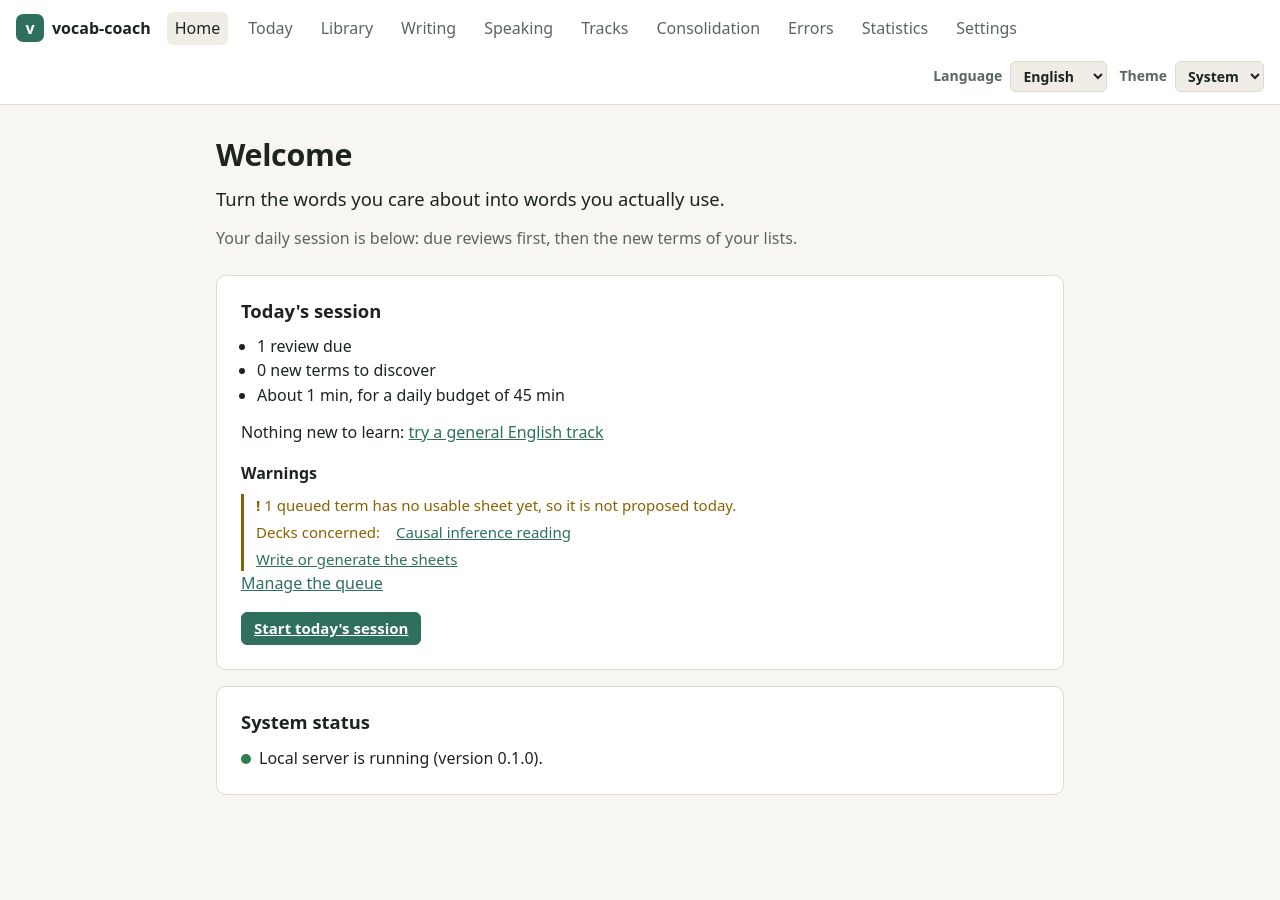
Test: Today card › is translated into French
Expected: the list item "1 review due" is shown, [257,335,352,357]
Step 1. Select "Français" in the dropdown labelled "Language" → (1059, 76), box [1010,61,1107,92]
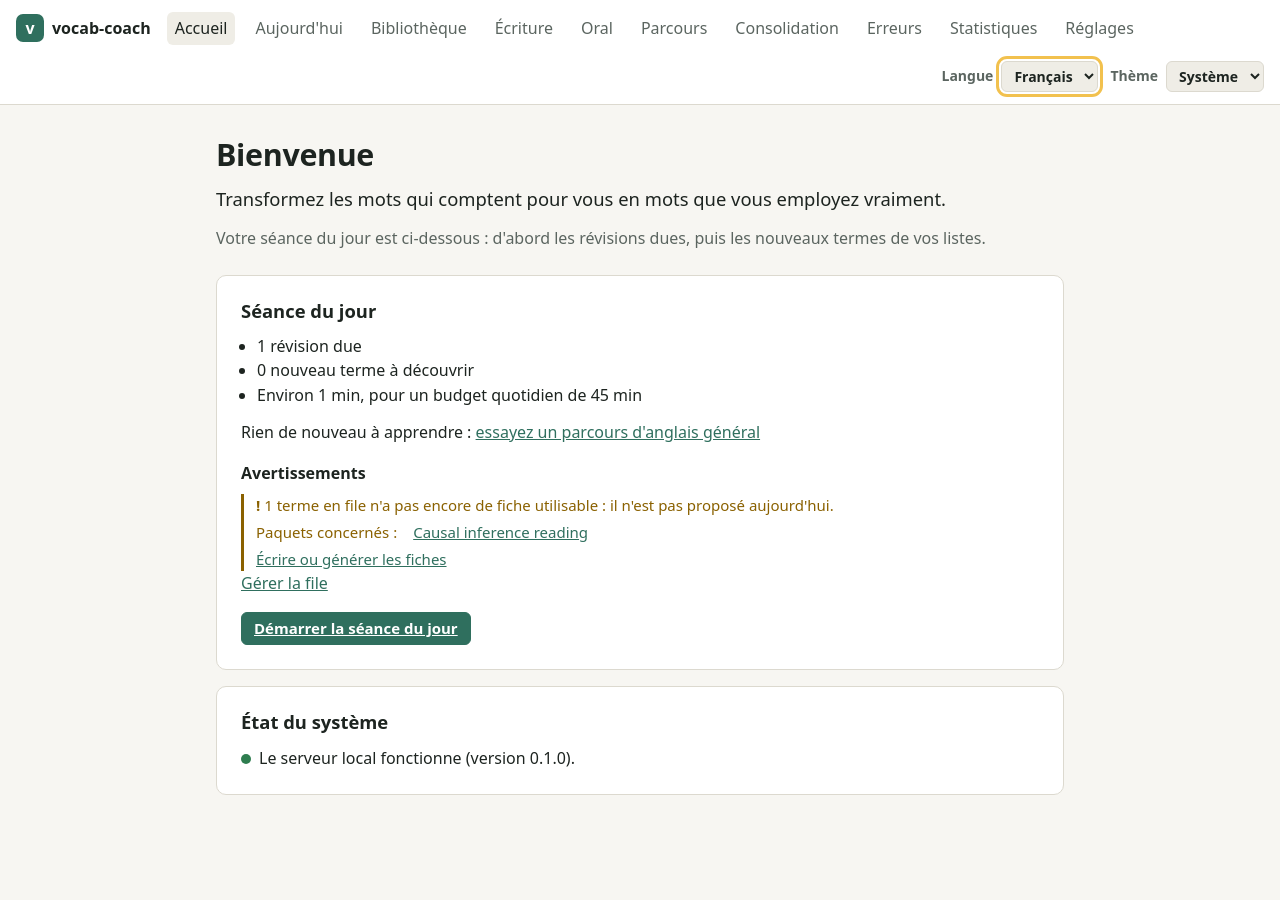
Result: the heading "Séance du jour" is shown at [241,298,376,323]
Result: the list item "1 révision due" is shown at [257,335,362,357]
Result: the list item "1 terme en file n'a pas encore de fiche utilisable" is shown at [264,495,834,515]
